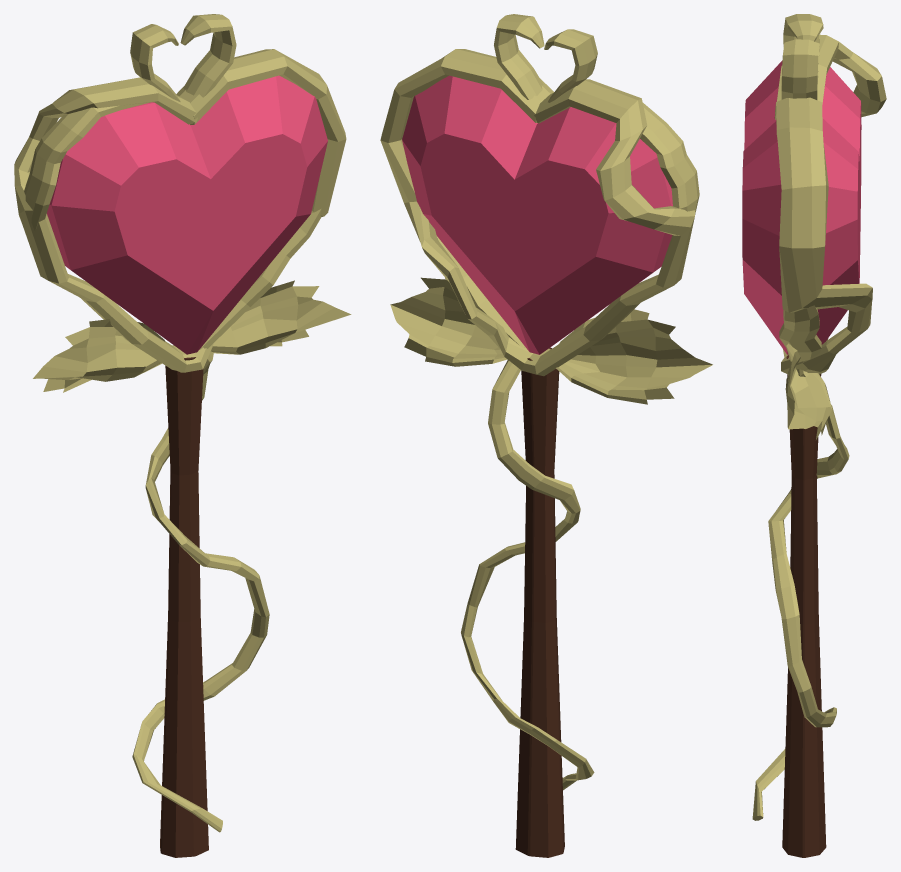
The model's file is healthWeapon.fbx.
The picture shows the model from 3 angles, left to right: view 1: azimuth 30°, elevation 25°; view 2: azimuth 150°, elevation 25°; view 3: azimuth 270°, elevation 25°; orthographic projection.
Parts seen in each view (by area): view 1: Cube, Cube.005, Cube.001, Cube.004, Plane, Plane.003, Cube.002, Cube.003; view 2: Cube, Cube.005, Cube.001, Plane.003, Cube.004, Plane, Cube.002, Cube.003; view 3: Cube.005, Cube, Cube.001, Cube.004, Plane, Cube.002, Cube.003.
Boxes of the visible parts, left/top/right/bottom form: Cube: left=47, top=75, right=327, bottom=354; Cube.005: left=14, top=49, right=346, bottom=372; Cube.001: left=160, top=357, right=208, bottom=857; Cube.004: left=132, top=347, right=269, bottom=832; Plane: left=211, top=280, right=351, bottom=354; Plane.003: left=33, top=319, right=165, bottom=392; Cube.002: left=180, top=14, right=236, bottom=97; Cube.003: left=130, top=24, right=180, bottom=101; Cube: left=402, top=75, right=672, bottom=354; Cube.005: left=380, top=49, right=699, bottom=376; Cube.001: left=515, top=347, right=564, bottom=857; Plane.003: left=556, top=309, right=712, bottom=404; Cube.004: left=461, top=360, right=594, bottom=790; Plane: left=390, top=277, right=507, bottom=366; Cube.002: left=494, top=14, right=544, bottom=99; Cube.003: left=544, top=29, right=597, bottom=102; Cube.005: left=774, top=34, right=886, bottom=374; Cube: left=742, top=60, right=861, bottom=354; Cube.001: left=782, top=355, right=826, bottom=857; Cube.004: left=752, top=369, right=849, bottom=820; Plane: left=785, top=343, right=832, bottom=439; Cube.002: left=781, top=39, right=819, bottom=99; Cube.003: left=783, top=14, right=823, bottom=86.
Size of the model in its own units: 54.31 by 133 by 21.4.
